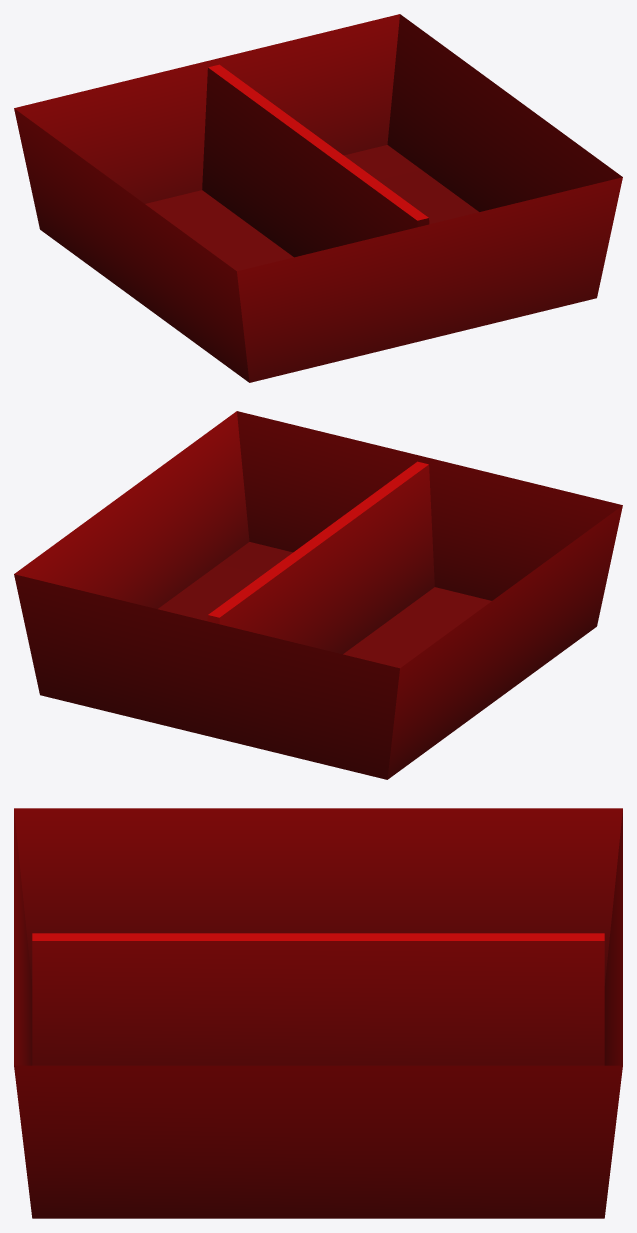
Rendered from dish_panel.glb.
3 views of the same model, one above another, from view 1: azimuth 30°, elevation 25°; view 2: azimuth 150°, elevation 25°; view 3: azimuth 270°, elevation 25° (orthographic). The views are drawn at different scales.
Parts seen in each view (by area): view 1: dish_panel; view 2: dish_panel; view 3: dish_panel.
Part boxes in pixels (bbox=[...]): dish_panel: bbox=[14, 14, 622, 382]; dish_panel: bbox=[14, 411, 622, 779]; dish_panel: bbox=[14, 808, 622, 1218].
Size of the model in its own units: 1 by 0.3 by 1.
